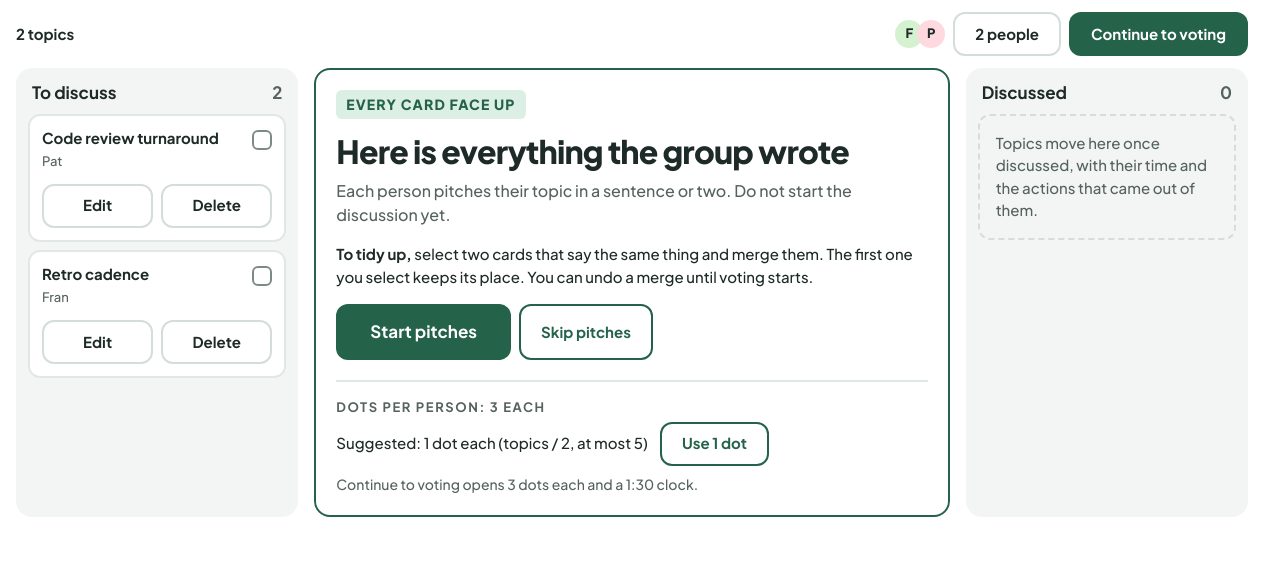
Scenario: Clarify as the board › Keep separate clears the selection and focus goes to the stage heading
This screenshot has width=1265, height=577.
Click the button "Code review turnaround Pat".
click(157, 150)  # box [30,116,284,184]
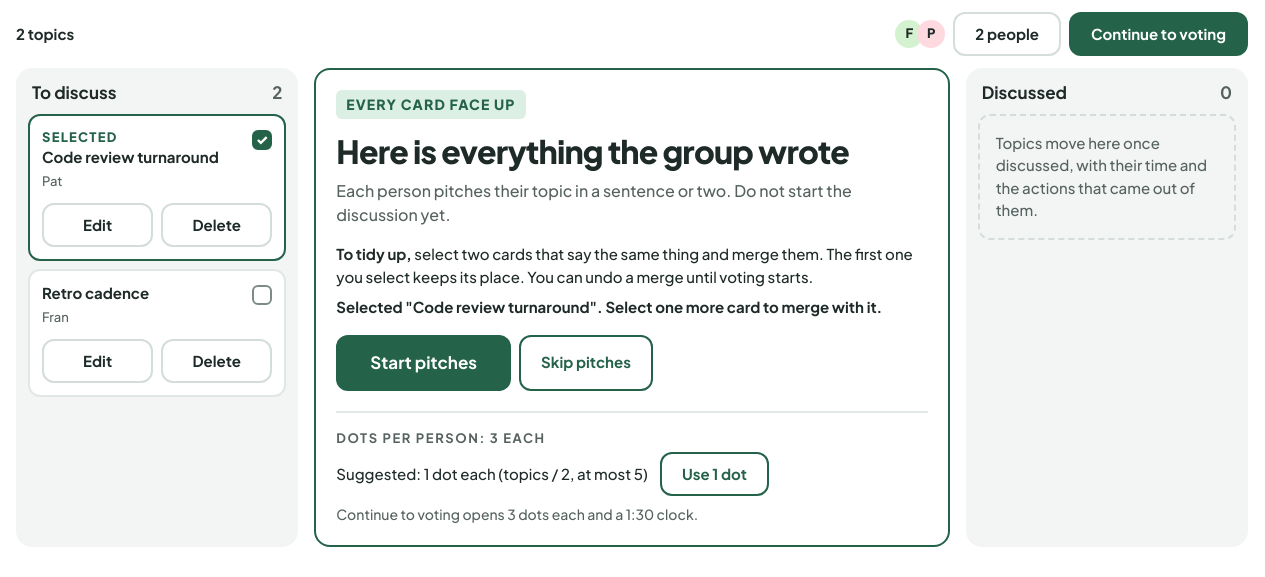
Click the button "Retro cadence Fran".
click(157, 305)  # box [30,271,284,339]
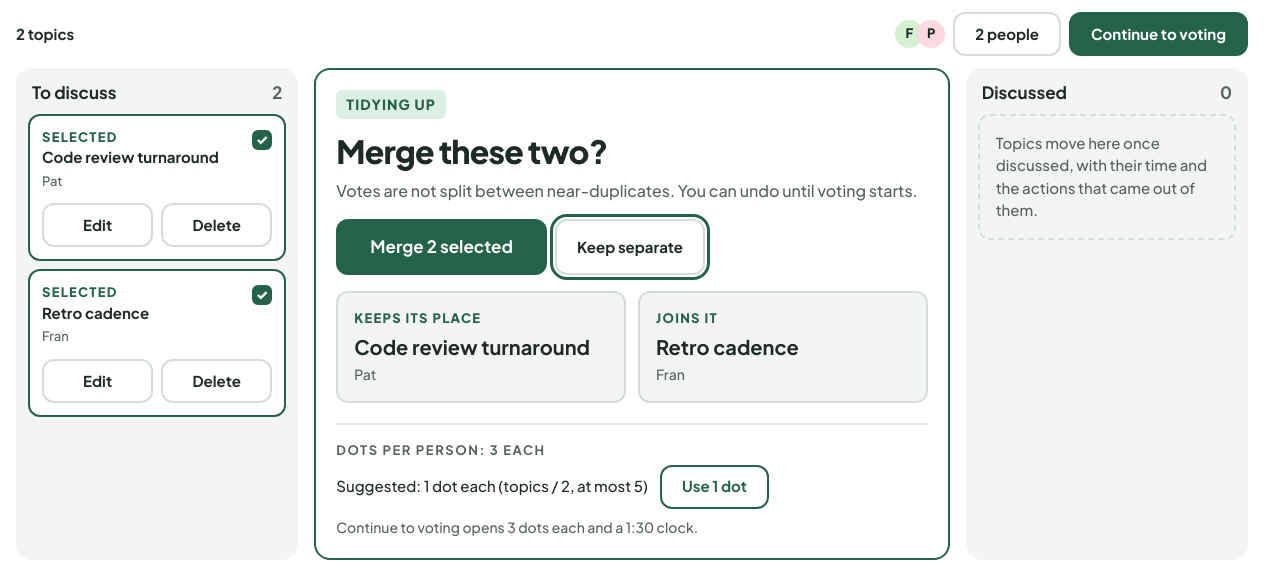
Click the button "Keep separate".
click(630, 247)  # box [555,219,705,275]
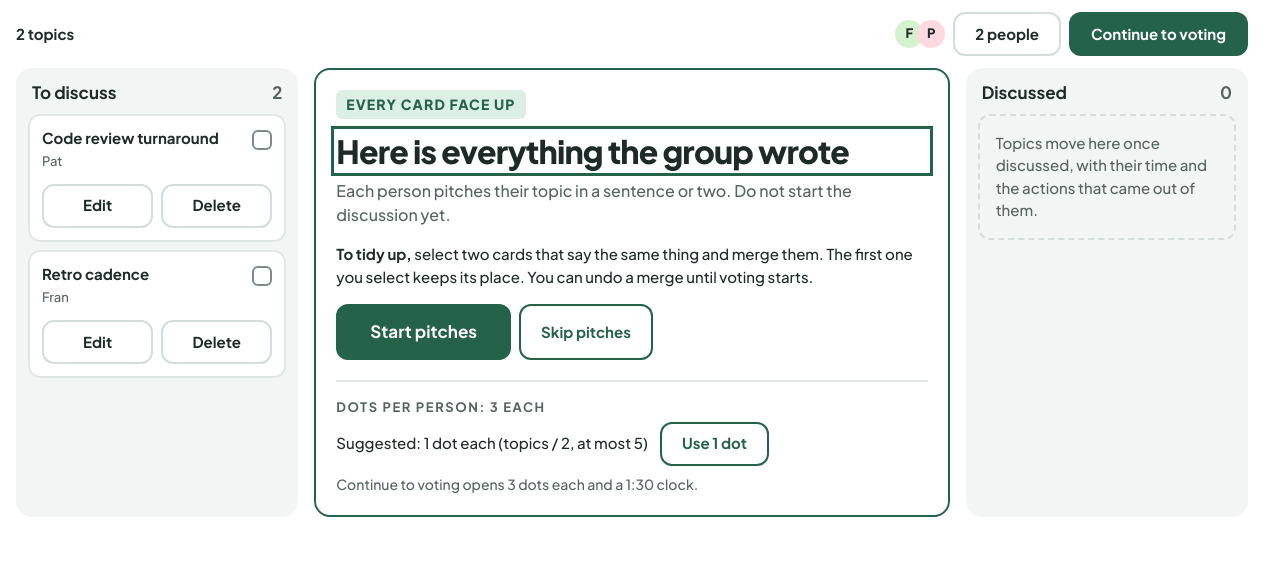
Expected: the heading "Here is everything the group wrote" is shown, [336,131,928,171]
